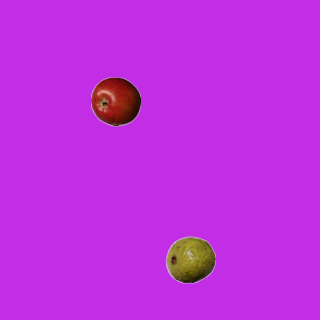Apple Braeburn: (90, 76, 140, 126)
Guava: (165, 234, 215, 284)
